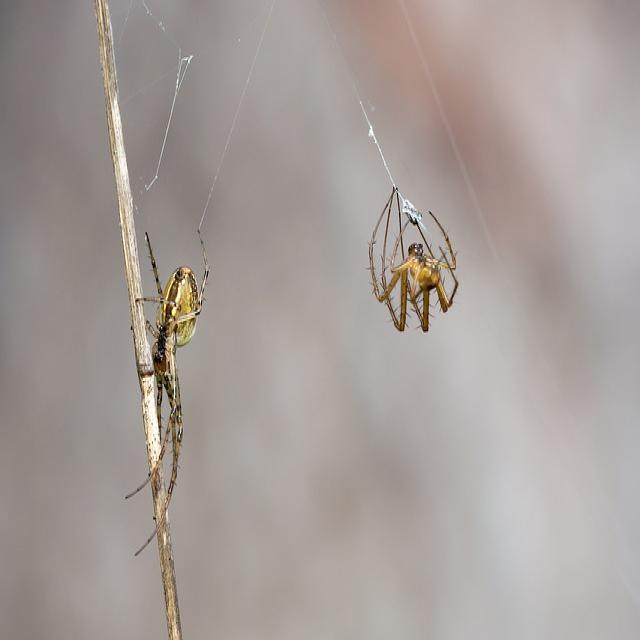spyder: (145, 229, 209, 506), (369, 193, 457, 333)
